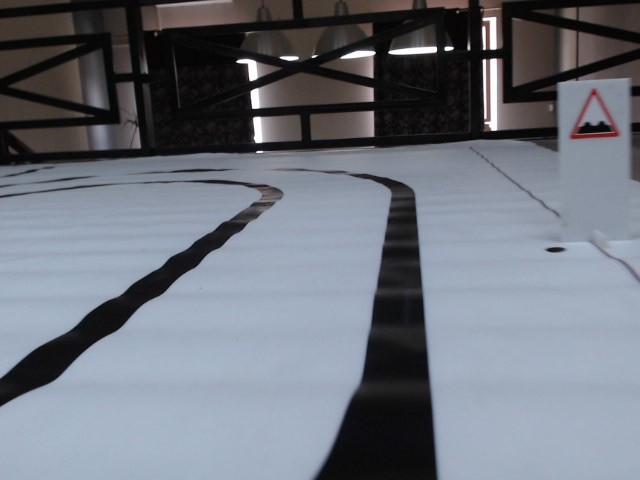Nerov: (567, 86, 621, 148)
